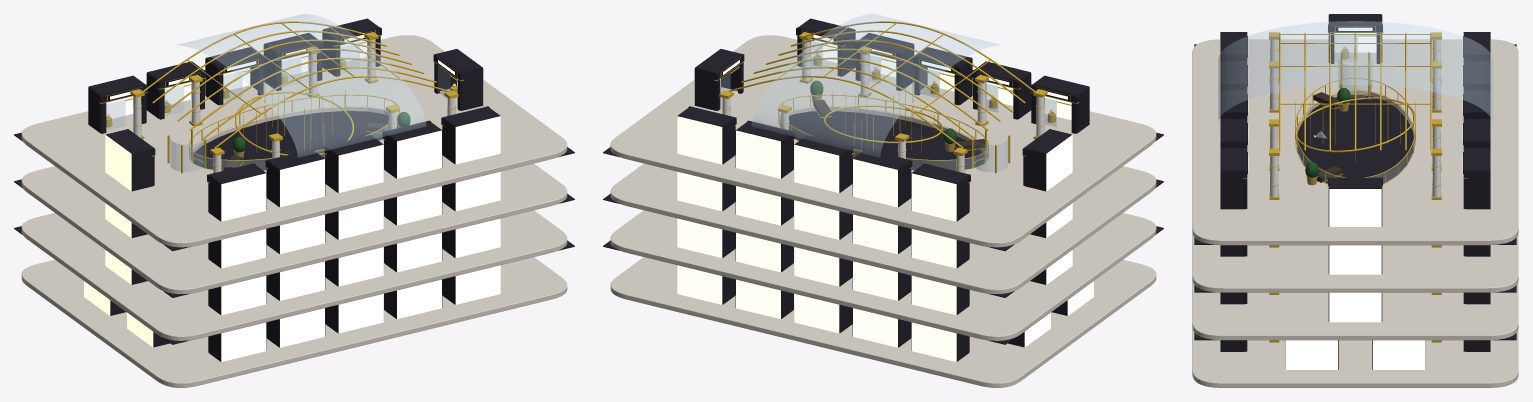
Rendered from aurelia_mall.glb.
The picture shows the model from 3 angles, left to right: view 1: azimuth 30°, elevation 25°; view 2: azimuth 150°, elevation 25°; view 3: azimuth 270°, elevation 25°; orthographic projection.
Visible parts, largest first — view 1: Floor_3, Roof_Skylight_Canopy, Floor_2, Floor_1, Floor_G, Store_nobu-tokyo, Store_ce-la-vi-lounge, Store_armani-ristorante, Store_artisan-patisserie, Store_laduree-paris, Store_the-grand-roastery, Store_inox-insignia (+27 smaller); view 2: Floor_3, Roof_Skylight_Canopy, Floor_2, Floor_1, Floor_G, Store_sushi-samba, Store_westside-store, Store_inox-insignia, Store_aurora-observatory, Store_haute-boulangerie, Store_the-grand-roastery, Store_laduree-paris (+27 smaller); view 3: Floor_3, Roof_Skylight_Canopy, Floor_1, Floor_2, Floor_G, Store_caviar-kaspia, Store_the-grand-roastery, Store_artisan-patisserie, Store_aurora-observatory, Store_armani-exchange, Store_pantaloons-store, Store_saint-laurent (+18 smaller).
Part boxes in pixels (x1,y1,x2,y2): Floor_3: [14, 32, 574, 251]; Roof_Skylight_Canopy: [140, 14, 449, 157]; Floor_2: [14, 163, 574, 297]; Floor_1: [14, 210, 574, 344]; Floor_G: [21, 257, 567, 387]; Store_nobu-tokyo: [265, 149, 325, 207]; Store_ce-la-vi-lounge: [382, 120, 442, 178]; Store_armani-ristorante: [207, 163, 266, 221]; Store_artisan-patisserie: [441, 106, 500, 164]; Store_laduree-paris: [324, 135, 383, 192]; Store_the-grand-roastery: [105, 129, 155, 191]; Store_inox-insignia: [88, 75, 147, 133]; Floor_3: [603, 32, 1163, 251]; Roof_Skylight_Canopy: [728, 14, 1037, 157]; Floor_2: [603, 163, 1163, 297]; Floor_1: [603, 210, 1163, 344]; Floor_G: [610, 257, 1156, 387]; Store_sushi-samba: [852, 149, 912, 207]; Store_westside-store: [735, 120, 795, 178]; Store_inox-insignia: [911, 163, 970, 221]; Store_aurora-observatory: [677, 106, 736, 164]; Store_haute-boulangerie: [794, 135, 853, 192]; Store_the-grand-roastery: [1022, 129, 1072, 191]; Store_laduree-paris: [913, 47, 972, 105]; Floor_3: [1192, 32, 1518, 245]; Roof_Skylight_Canopy: [1218, 21, 1492, 150]; Floor_1: [1192, 280, 1518, 340]; Floor_2: [1192, 233, 1518, 292]; Floor_G: [1192, 328, 1518, 387]; Store_caviar-kaspia: [1327, 177, 1383, 226]; Store_the-grand-roastery: [1327, 14, 1383, 63]; Store_artisan-patisserie: [1220, 148, 1248, 209]; Store_aurora-observatory: [1462, 148, 1490, 209]; Store_armani-exchange: [1328, 292, 1382, 322]; Store_pantaloons-store: [1328, 245, 1382, 274]; Store_saint-laurent: [1372, 340, 1425, 369].
Bounding box in the file's own units: 38.1 × 21.42 × 26.1.
